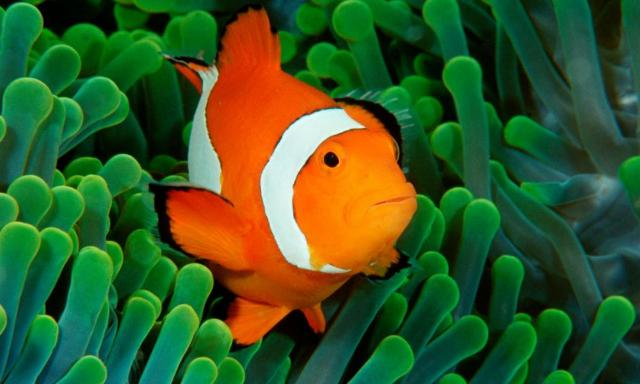Mulut: (348, 169, 437, 227)
Sirip Dada: (140, 173, 268, 287), (328, 80, 420, 178)
Sirip Perut: (202, 279, 344, 363)
Sirip Punggung: (148, 0, 294, 102)
